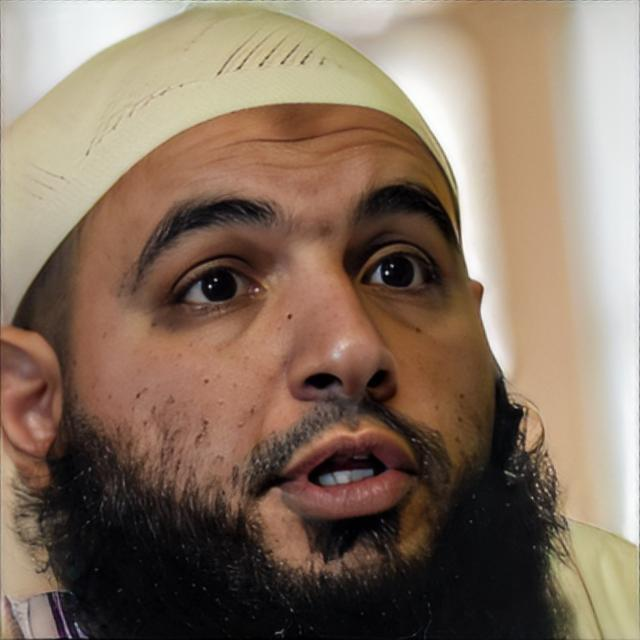surprise: (66, 102, 498, 624)
